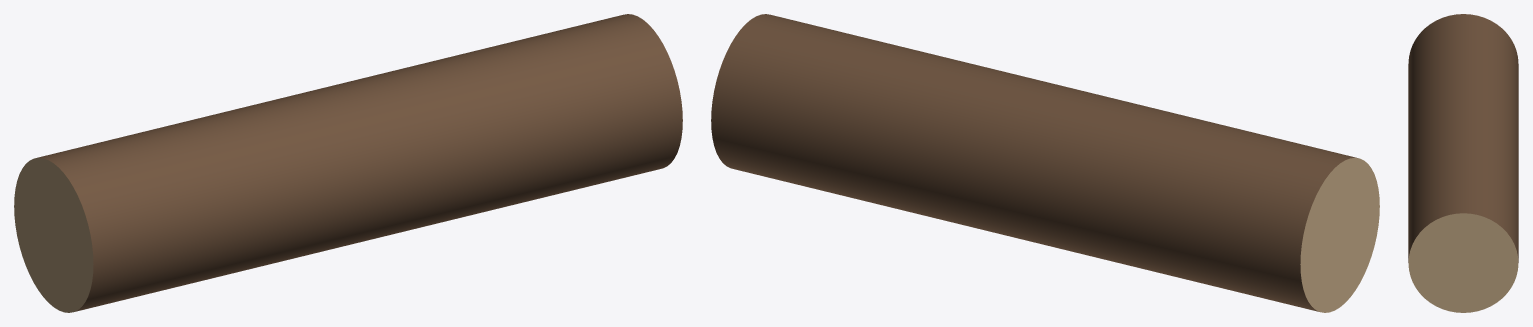
The model's file is SM_RawLog_150.fbx.
3 views of the same model, side by side, from view 1: azimuth 30°, elevation 25°; view 2: azimuth 150°, elevation 25°; view 3: azimuth 270°, elevation 25° (orthographic). The views are drawn at different scales.
Visible parts, largest first — view 1: RawLog_150; view 2: RawLog_150; view 3: RawLog_150.
Boxes of the visible parts, box(x1,y1,x2,y2) form: RawLog_150: box(14, 14, 682, 312); RawLog_150: box(711, 14, 1379, 312); RawLog_150: box(1408, 14, 1518, 312).
Size of what is drawn, in the model's own units: 1.5 by 0.35 by 0.35.
